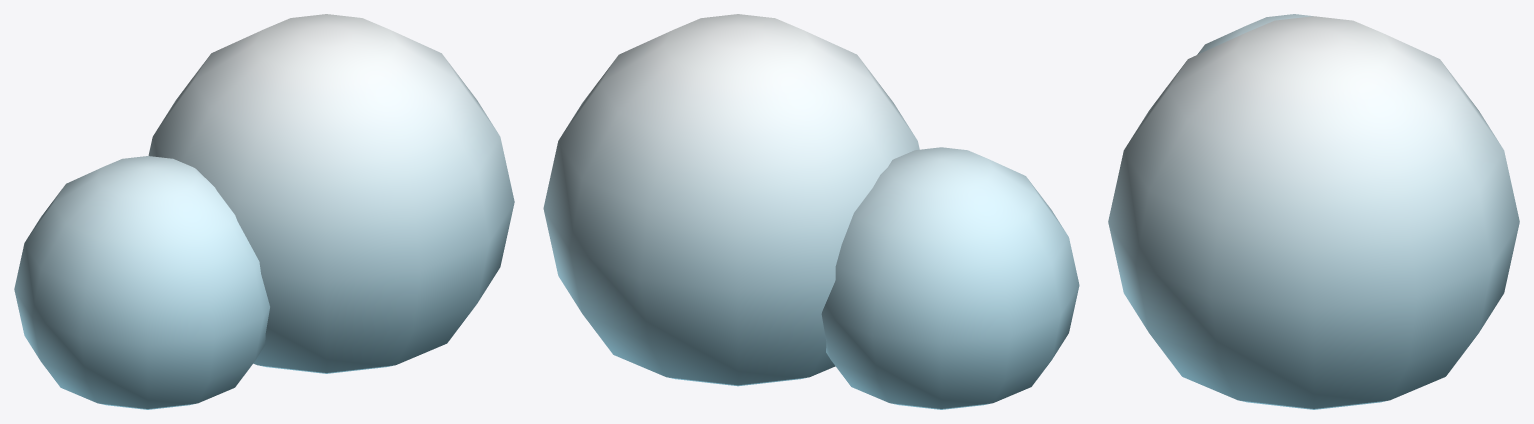
File: Cloud_03.fbx
3 views of the same model, side by side, from view 1: azimuth 30°, elevation 25°; view 2: azimuth 150°, elevation 25°; view 3: azimuth 270°, elevation 25° (orthographic). The views are drawn at different scales.
Visible parts, largest first — view 1: Cloud_03; view 2: Cloud_03; view 3: Cloud_03.
Part boxes in pixels (<box>): Cloud_03: <box>14,14,514,409</box>; Cloud_03: <box>543,14,1079,409</box>; Cloud_03: <box>1108,14,1519,409</box>.
Bounding box in the file's own units: 286 × 171 × 200.
